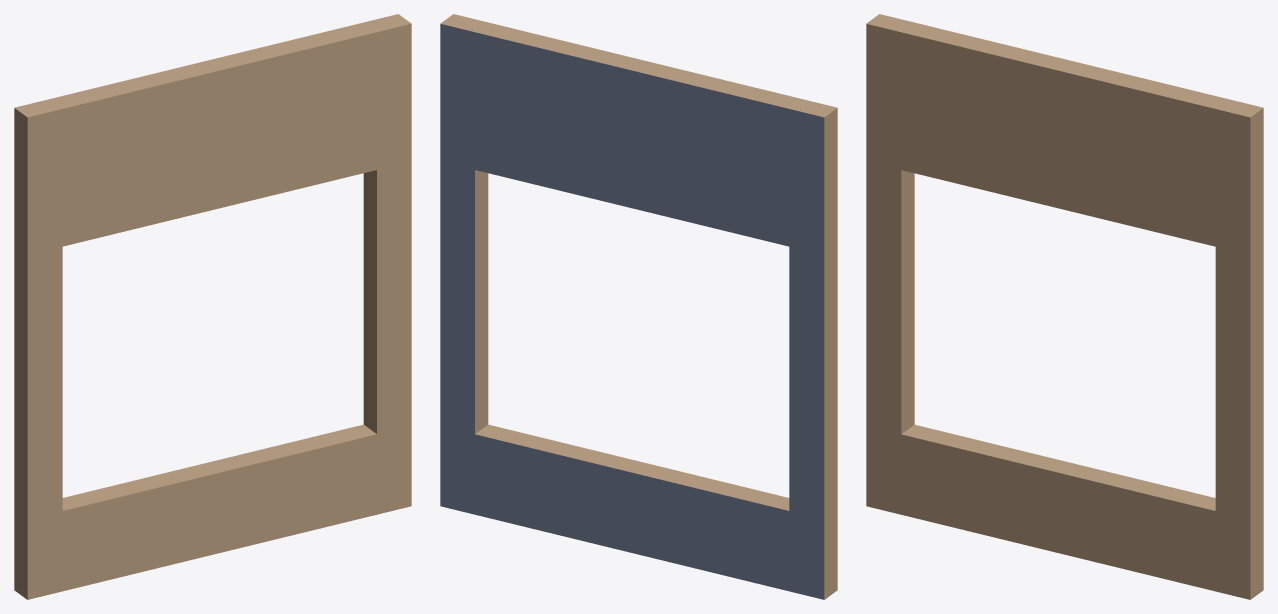
The model's file is Wall3_C3_05.fbx.
3 renders of one model, left to right at view 1: azimuth 30°, elevation 25°; view 2: azimuth 150°, elevation 25°; view 3: azimuth 330°, elevation 25°, orthographic.
Visible parts, largest first — view 1: Wall3_C3_05; view 2: Wall3_C3_05; view 3: Wall3_C3_05.
Boxes of the visible parts, x1,y1,x2,y2 form: Wall3_C3_05: [14, 14, 411, 599]; Wall3_C3_05: [440, 14, 837, 599]; Wall3_C3_05: [866, 14, 1263, 599].
Size of the model in its own units: 250 by 300 by 15.
